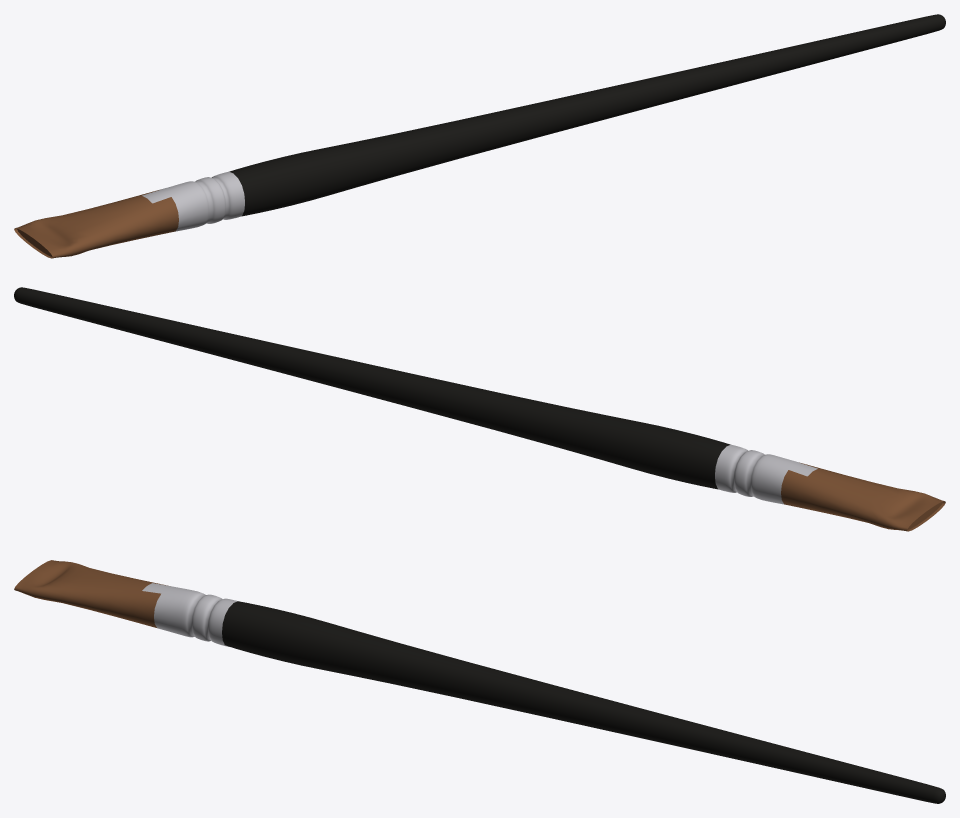
The model's file is pincel.obj.
3 views of the same model, one above another, from view 1: azimuth 30°, elevation 25°; view 2: azimuth 150°, elevation 25°; view 3: azimuth 330°, elevation 25° (orthographic).
Visible parts, largest first — view 1: 18_flat_brush_Cube.001, Cube.001_Cube.002; view 2: 18_flat_brush_Cube.001, Cube.001_Cube.002; view 3: 18_flat_brush_Cube.001, Cube.001_Cube.002.
Boxes of the visible parts, left/top/right/bottom form: 18_flat_brush_Cube.001: left=229, top=14, right=945, bottom=216; Cube.001_Cube.002: left=14, top=171, right=244, bottom=258; 18_flat_brush_Cube.001: left=14, top=287, right=730, bottom=489; Cube.001_Cube.002: left=715, top=444, right=945, bottom=531; 18_flat_brush_Cube.001: left=222, top=601, right=945, bottom=803; Cube.001_Cube.002: left=14, top=560, right=237, bottom=646.
Size of the model in its own units: 2.26 by 0.1048 by 0.1702.
3 materials, 3 textured.
